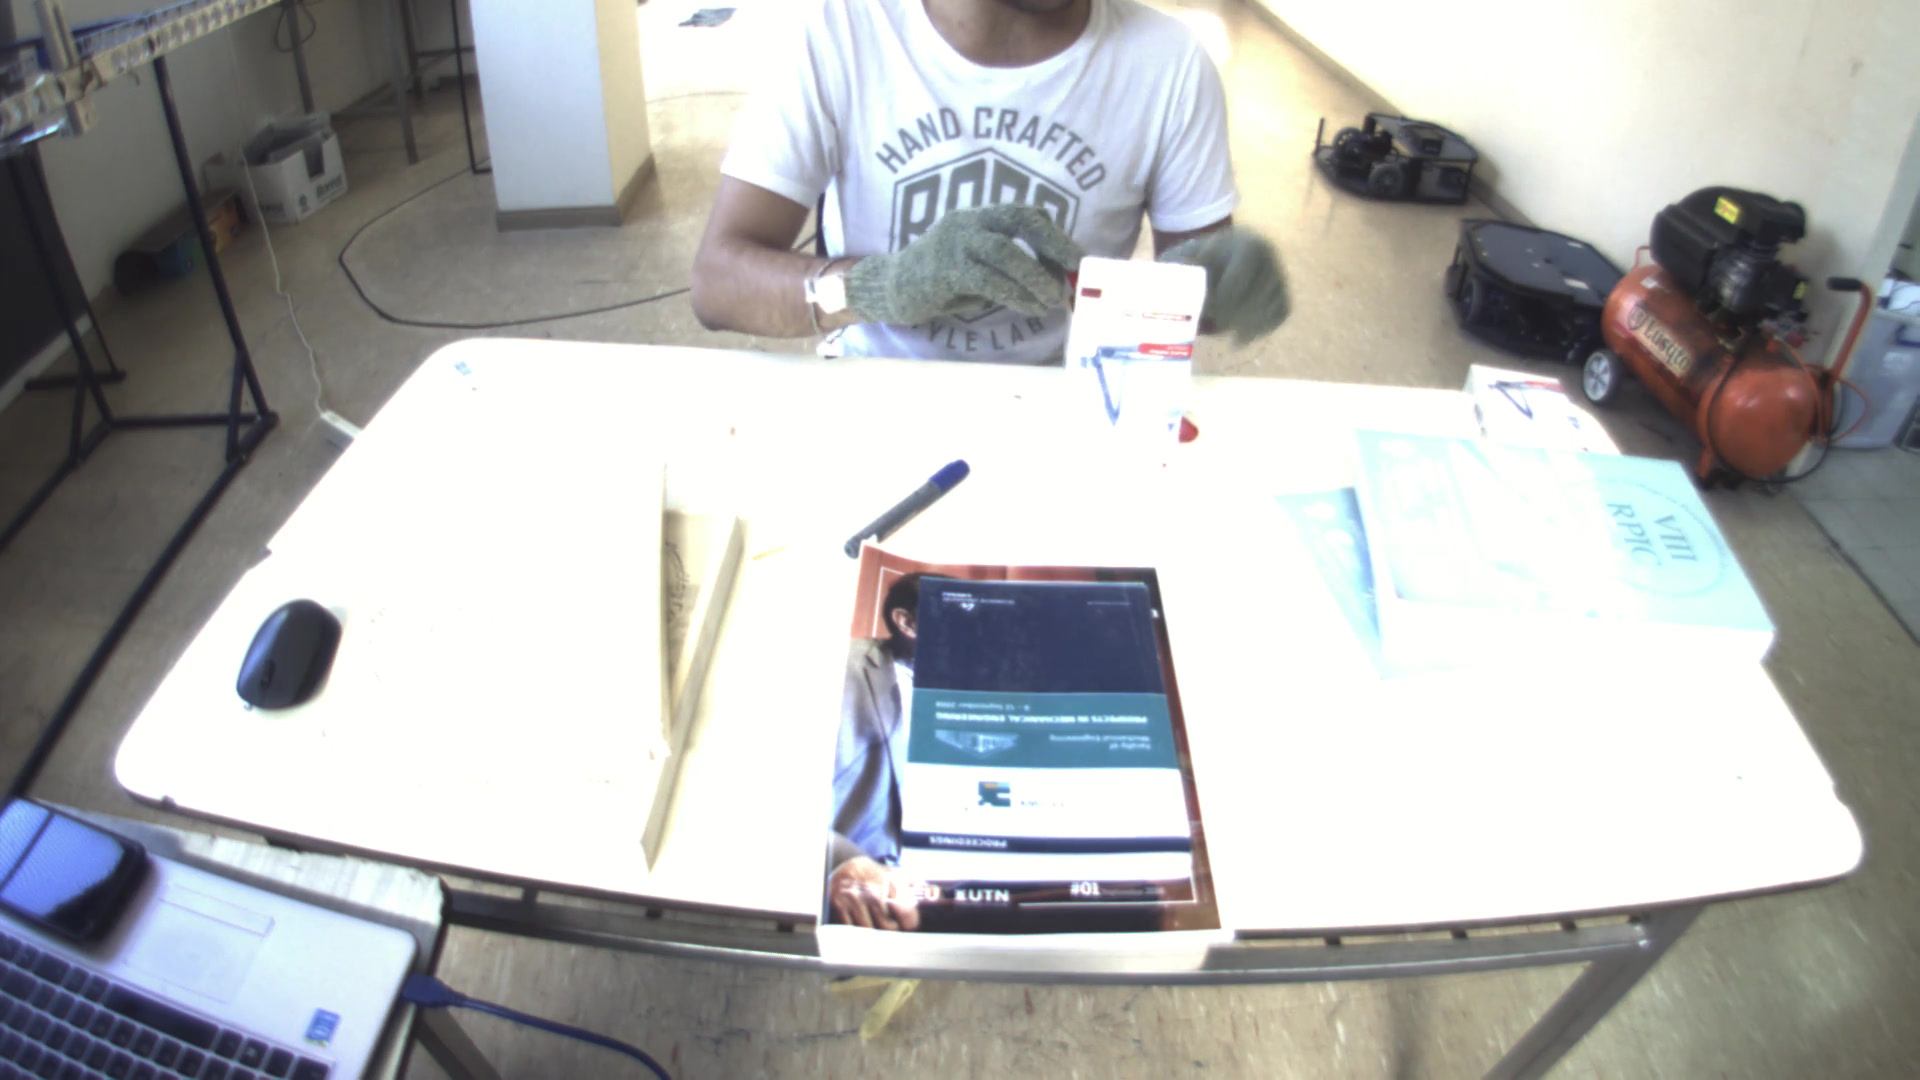hand: (823, 196, 1109, 334), (1153, 225, 1290, 345)
